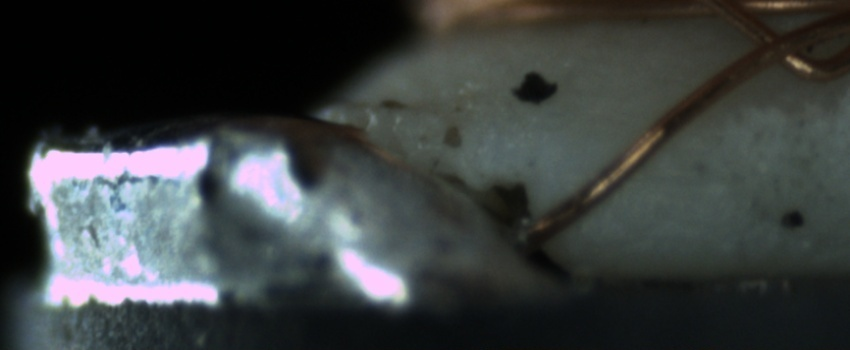CL: (736, 16, 819, 76)
DL: (590, 147, 726, 211)
